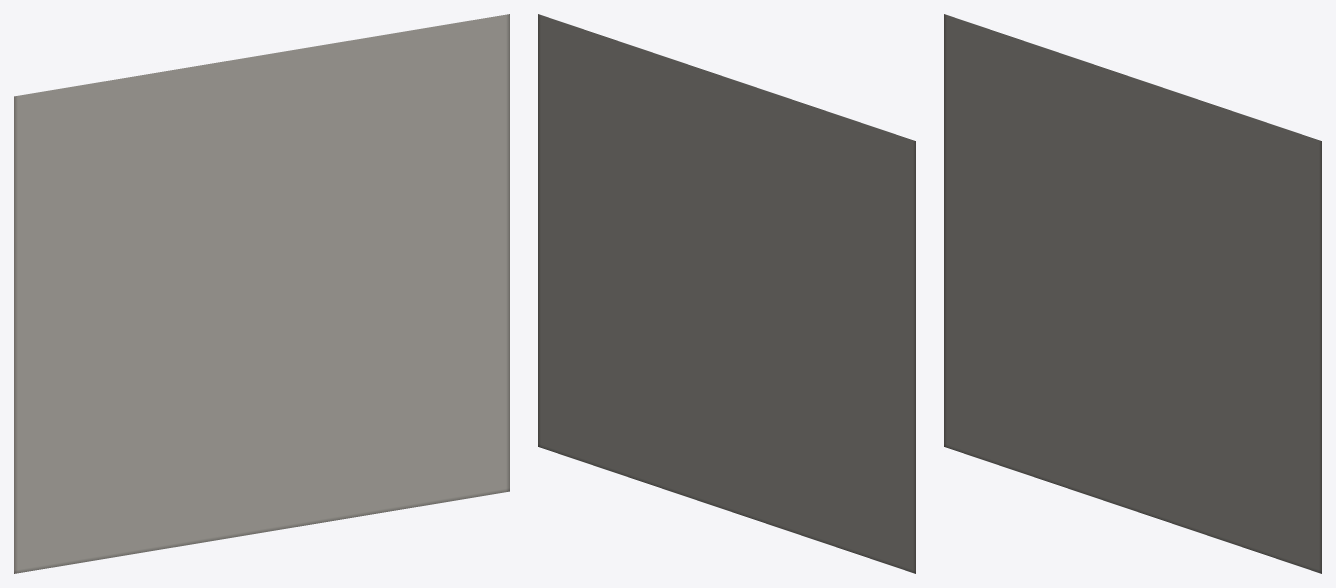
Rendered from Atmos_Cobweb_B.fbx.
3 views of the same model, side by side, from view 1: azimuth 30°, elevation 25°; view 2: azimuth 150°, elevation 25°; view 3: azimuth 330°, elevation 25° (orthographic). The views are drawn at different scales.
Visible parts, largest first — view 1: Atmos_Cobweb_B; view 2: Atmos_Cobweb_B; view 3: Atmos_Cobweb_B.
Boxes of the visible parts, bbox=[...] form: Atmos_Cobweb_B: bbox=[14, 14, 509, 573]; Atmos_Cobweb_B: bbox=[538, 14, 915, 573]; Atmos_Cobweb_B: bbox=[944, 14, 1321, 573].
Size of the model in its own units: 50 by 50 by 7.5.
Materials: 1 (1 with a texture image).
